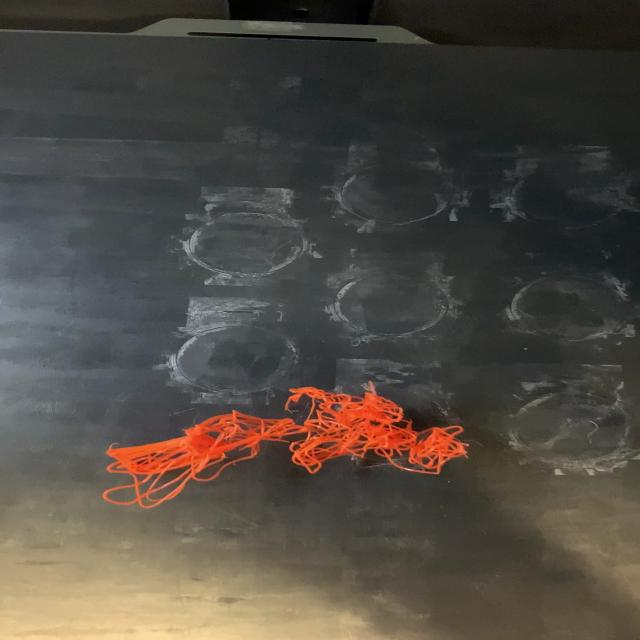spaghetti: (95, 134, 635, 510), (97, 380, 473, 510)
